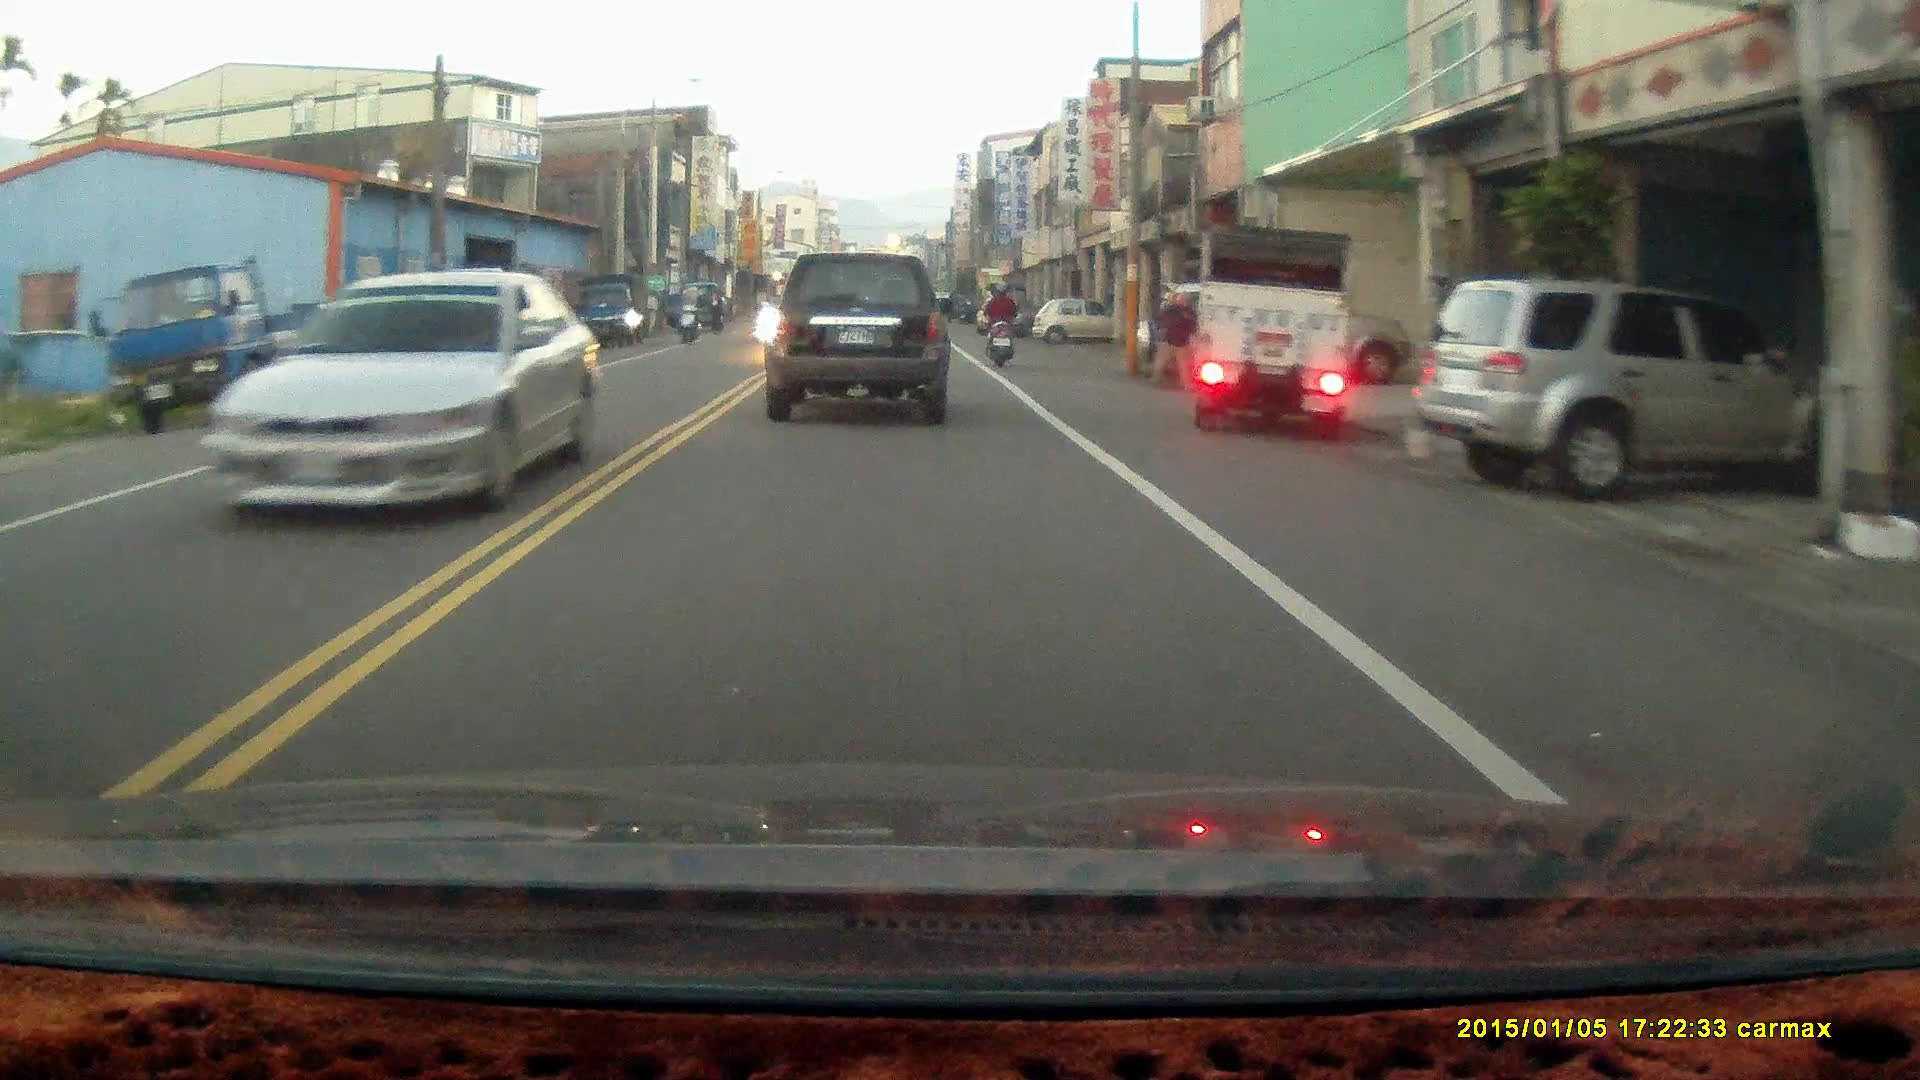pedestrian: (1144, 290, 1197, 393), (705, 286, 725, 334)
rider: (980, 279, 1016, 367), (674, 276, 706, 345)
vehicle: (201, 269, 596, 527), (1424, 279, 1852, 497), (114, 255, 344, 427), (1189, 227, 1357, 438), (766, 251, 953, 427), (1129, 277, 1412, 392), (1037, 300, 1114, 353)
